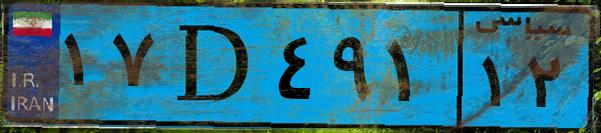1: (385, 28, 445, 110), (57, 26, 110, 100), (475, 38, 525, 113)
2: (525, 38, 570, 115)
4: (270, 28, 330, 110)
7: (110, 28, 158, 98)
9: (330, 28, 385, 110)
D: (158, 12, 270, 120)
